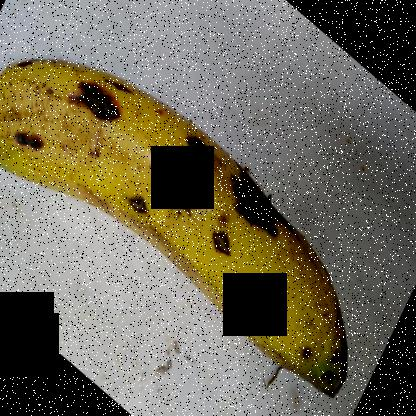rotten: (230, 156, 298, 245), (148, 167, 213, 232), (84, 58, 142, 130), (111, 176, 152, 236), (0, 115, 45, 161), (174, 133, 211, 174), (207, 231, 238, 273)
